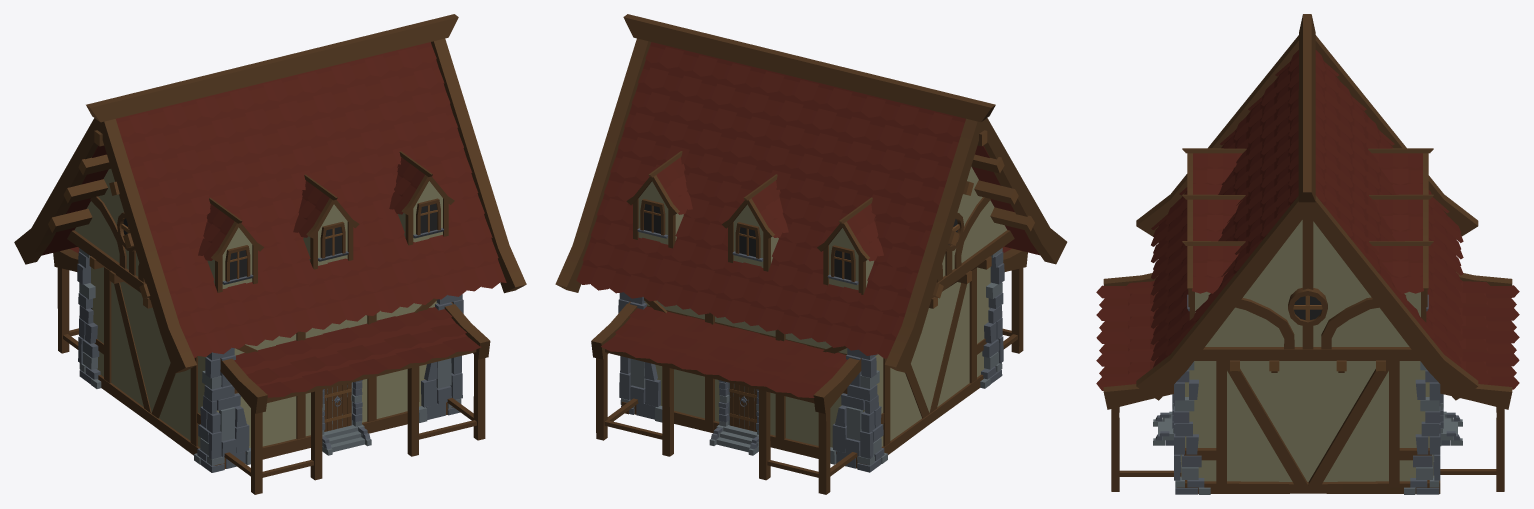
The model's file is inn.glb.
3 renders of one model, left to right at view 1: azimuth 30°, elevation 25°; view 2: azimuth 150°, elevation 25°; view 3: azimuth 270°, elevation 25°, orthographic.
Visible parts, largest first — view 1: Inn; view 2: Inn; view 3: Inn.
Part boxes in pixels (<box>): Inn: <box>14,14,526,494</box>; Inn: <box>555,14,1067,494</box>; Inn: <box>1096,14,1519,494</box>.
Bounding box in the file's own units: 4.03 × 3.49 × 4.02.
